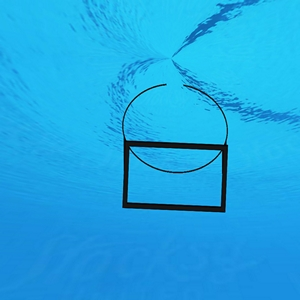circle: (119, 81, 232, 217)
